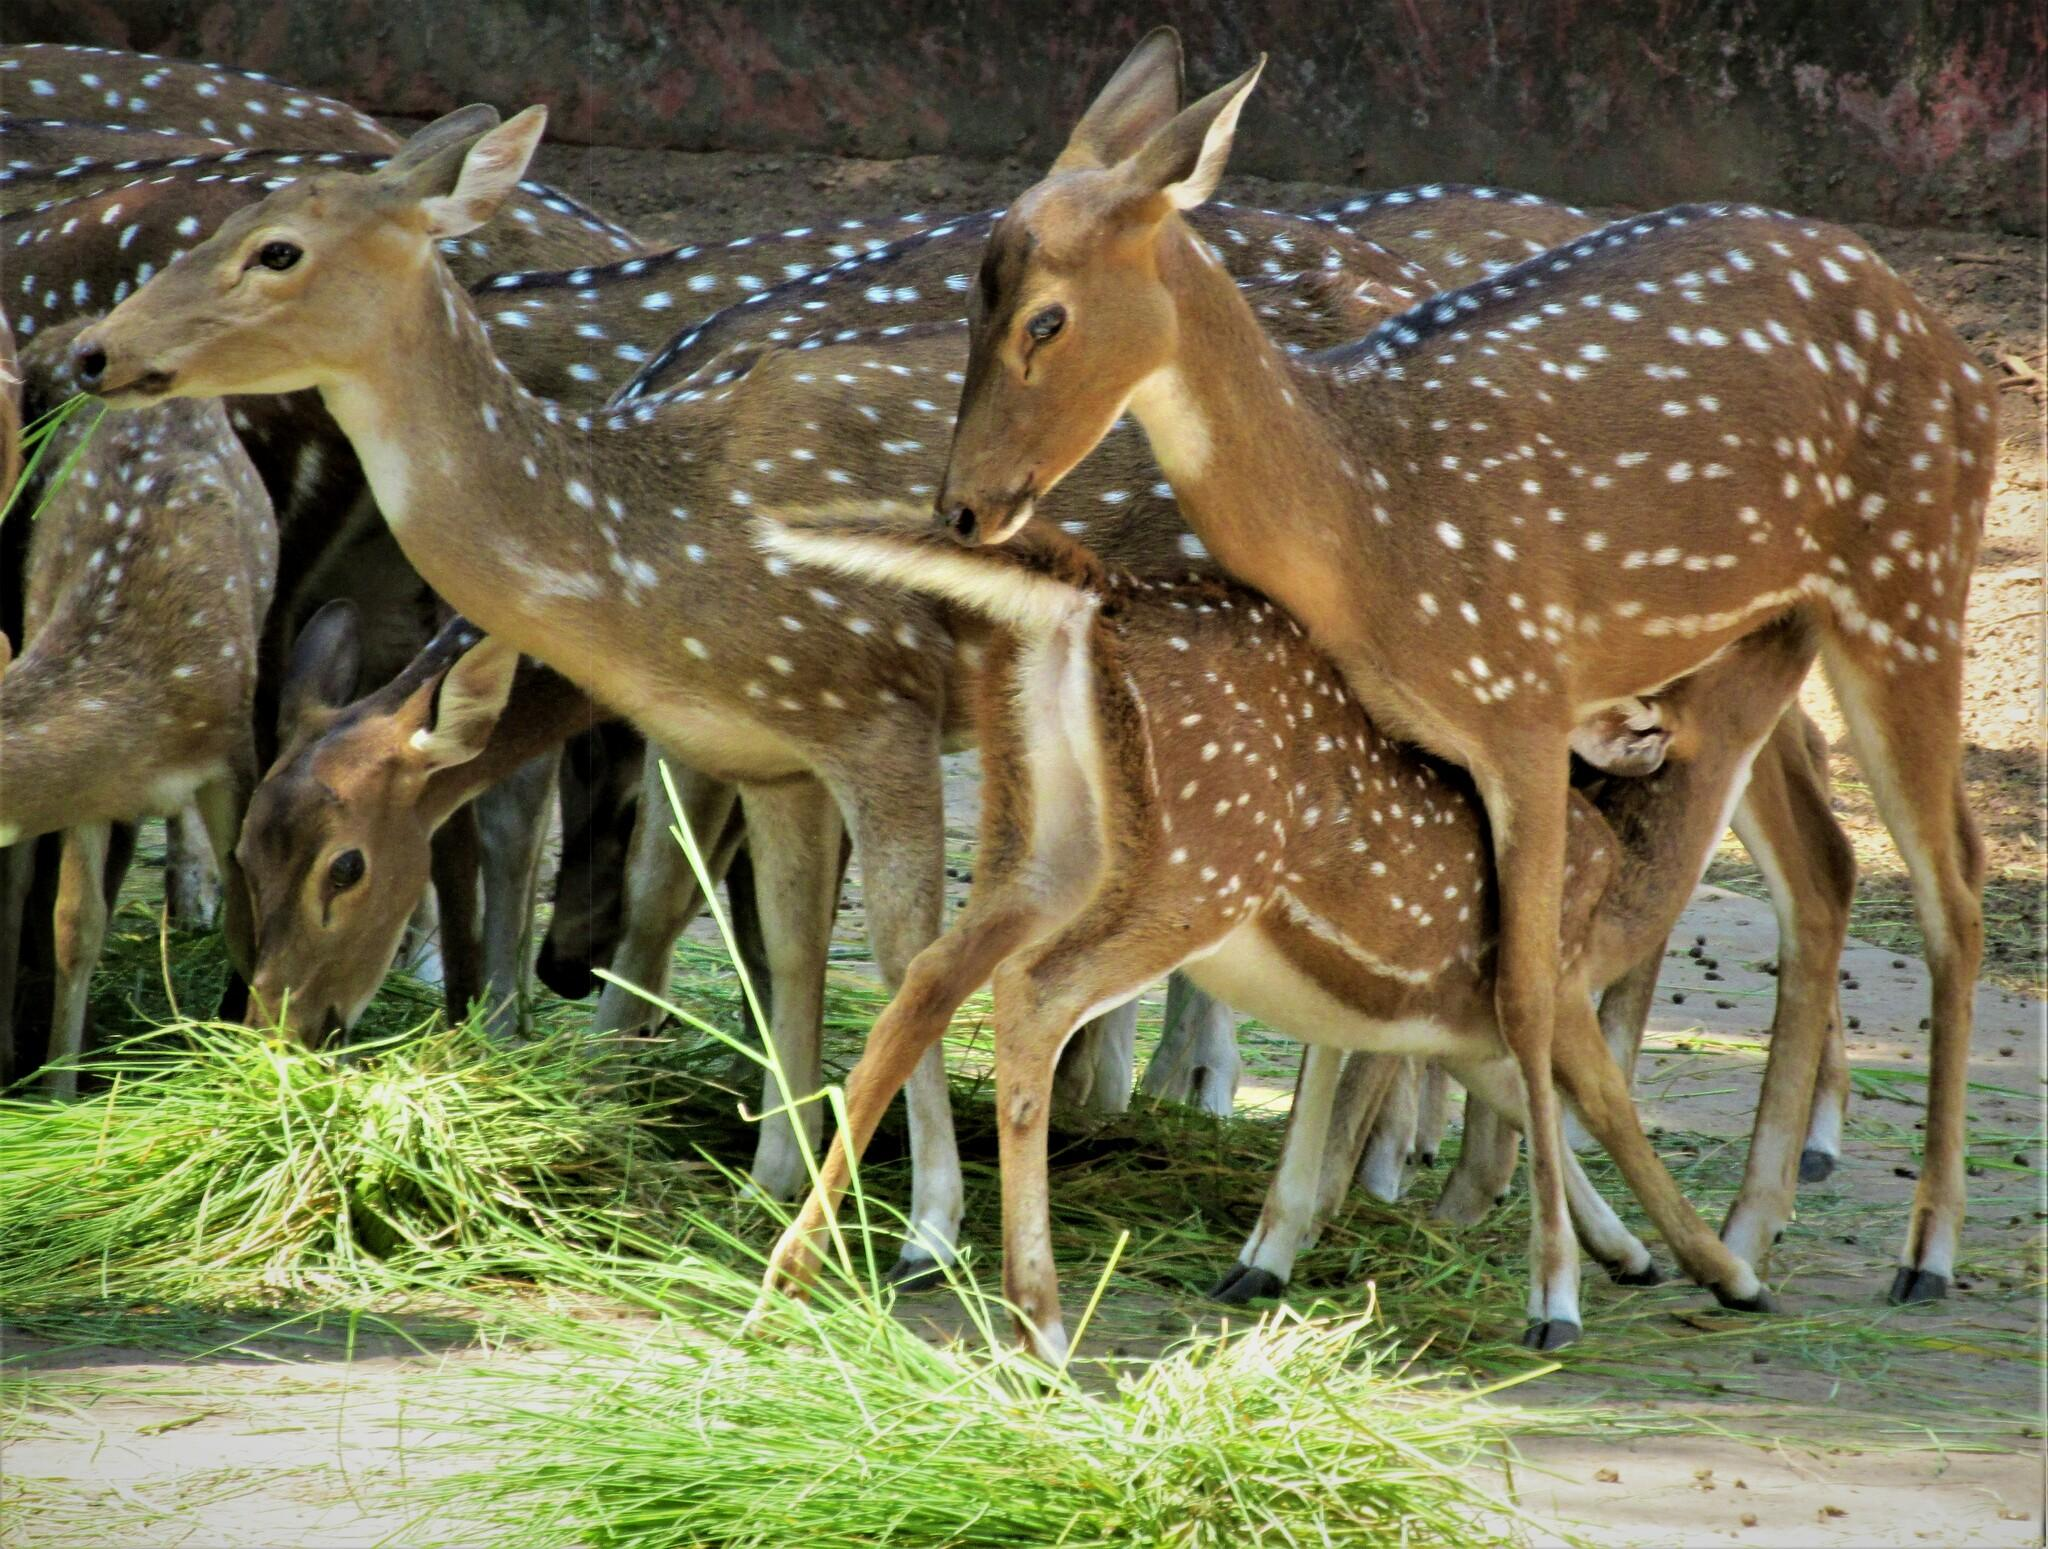Deer: (935, 28, 1993, 1347), (70, 106, 966, 1198), (760, 500, 1524, 1352), (0, 399, 277, 1092), (237, 600, 595, 1046)
